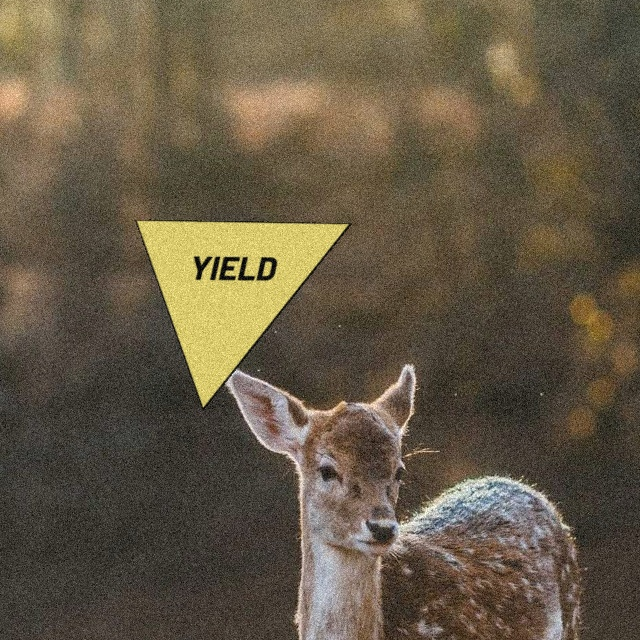YIELD: (134, 219, 352, 411)
